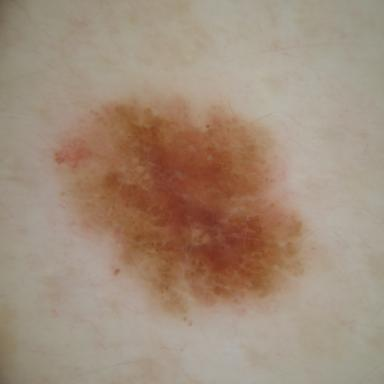nevus: (55, 99, 307, 313)
